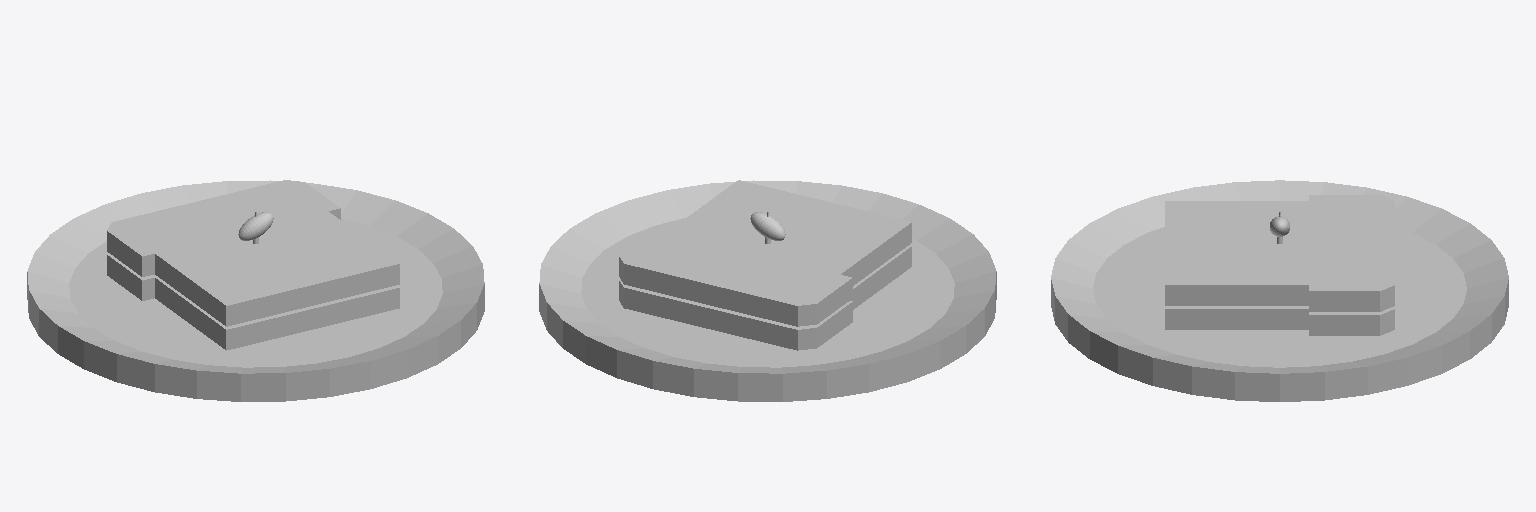
The model's file is Sandwich.obj.
The picture shows the model from 3 angles: view 1: azimuth 30°, elevation 25°; view 2: azimuth 150°, elevation 25°; view 3: azimuth 270°, elevation 25°; orthographic projection.
Visible parts, largest first — view 1: Cylinder.001, Plane.001, Plane, Sphere; view 2: Cylinder.001, Plane.001, Plane, Sphere; view 3: Cylinder.001, Plane.001, Plane.
Boxes of the visible parts, x1=… form: Cylinder.001: x1=27, y1=180, x2=484, y2=401; Plane.001: x1=107, y1=180, x2=399, y2=326; Plane: x1=107, y1=253, x2=399, y2=350; Sphere: x1=238, y1=212, x2=273, y2=240; Cylinder.001: x1=539, y1=180, x2=996, y2=401; Plane.001: x1=619, y1=180, x2=911, y2=326; Plane: x1=619, y1=245, x2=911, y2=350; Sphere: x1=750, y1=212, x2=785, y2=240; Cylinder.001: x1=1051, y1=180, x2=1508, y2=401; Plane.001: x1=1165, y1=195, x2=1394, y2=311; Plane: x1=1165, y1=306, x2=1394, y2=335.
Bounding box in the file's own units: 4 × 0.9549 × 4.